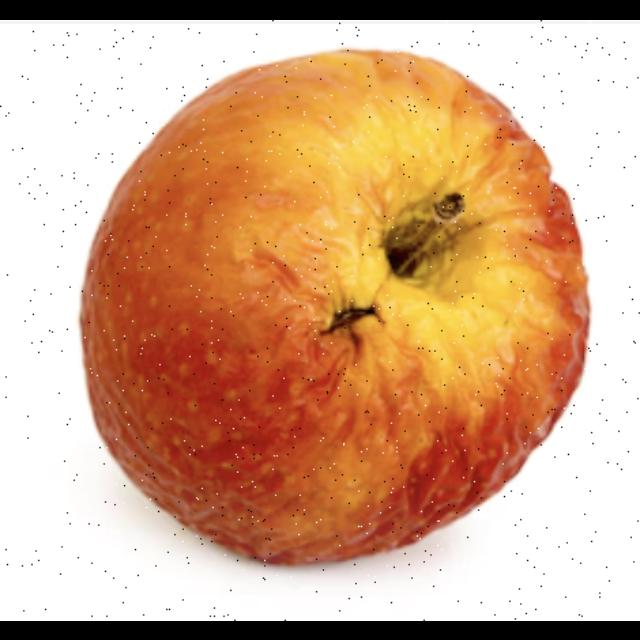Apel Tidak Segar: (74, 43, 598, 575)
